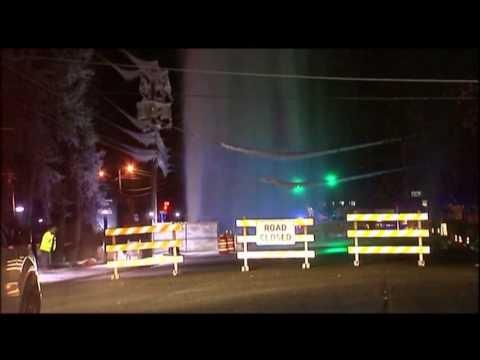pipe burst: (184, 48, 308, 222)
